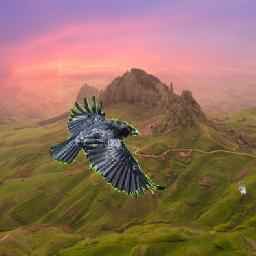Crow: (50, 94, 167, 198)
Sparrow: (234, 181, 246, 195)
